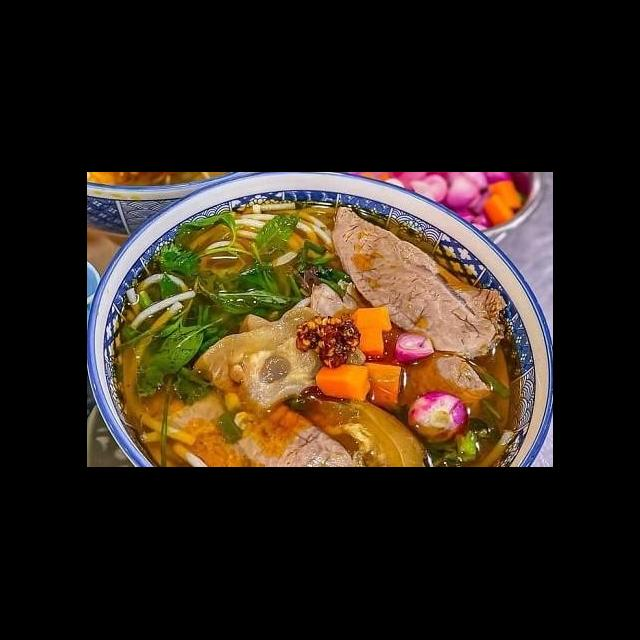bun: (184, 198, 335, 286), (119, 270, 198, 378), (131, 408, 212, 468)
bun bo: (115, 201, 532, 460)
thit bo: (329, 204, 511, 362), (390, 346, 497, 430), (231, 398, 359, 468), (162, 387, 254, 468)
